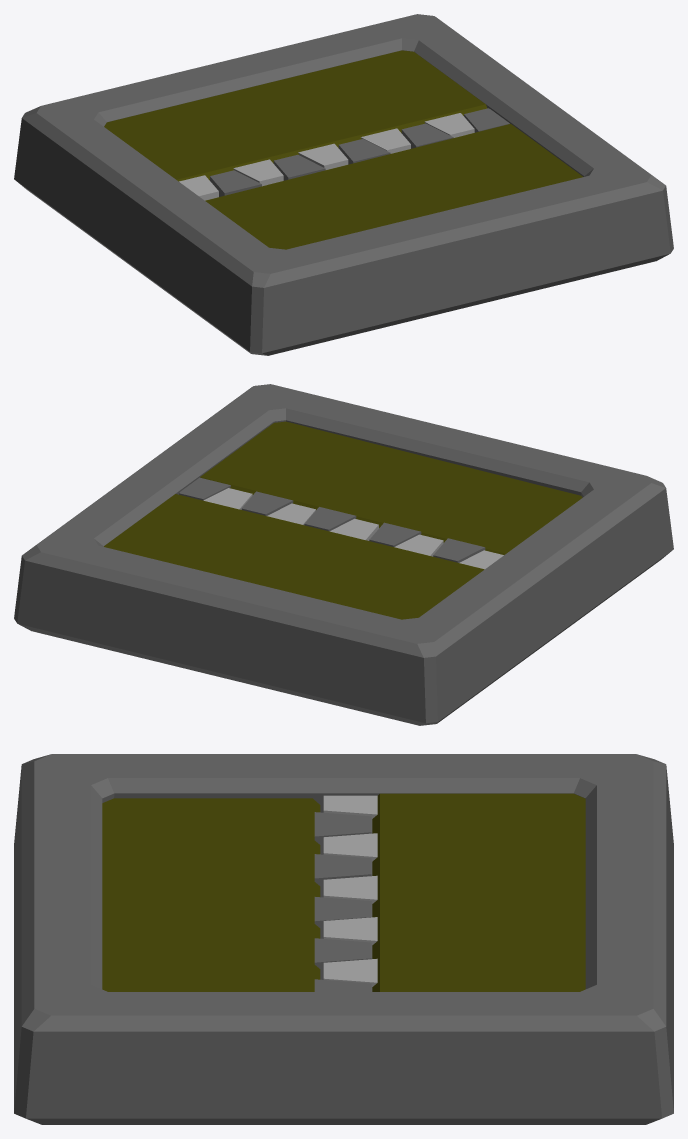
File: cage.fbx
3 views of the same model, one above another, from view 1: azimuth 30°, elevation 25°; view 2: azimuth 150°, elevation 25°; view 3: azimuth 270°, elevation 25° (orthographic). The views are drawn at different scales.
Visible parts, largest first — view 1: Frame, DoorA, DoorB; view 2: Frame, DoorB, DoorA; view 3: Frame, DoorA, DoorB.
Part boxes in pixels (left/top/right/bottom): Frame: left=14, top=14, right=673, bottom=355; DoorA: left=104, top=50, right=487, bottom=200; DoorB: left=205, top=108, right=582, bottom=249; Frame: left=14, top=384, right=673, bottom=725; DoorB: left=179, top=421, right=582, bottom=562; DoorA: left=104, top=488, right=503, bottom=619; Frame: left=14, top=754, right=673, bottom=1124; DoorA: left=323, top=793, right=585, bottom=991; DoorB: left=102, top=798, right=371, bottom=991.
Size of the model in its own units: 92.85 by 16.51 by 92.85.
